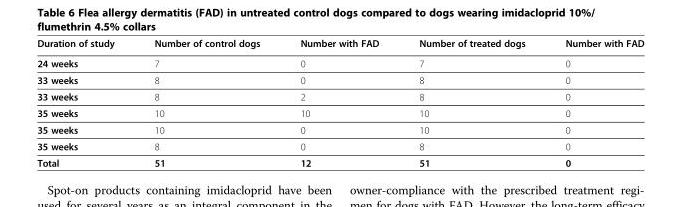table: (36, 37, 643, 168)
table column: (133, 37, 279, 168), (398, 37, 544, 168), (279, 37, 398, 168), (544, 37, 643, 168), (36, 37, 133, 168)
table column header: (36, 37, 643, 52)
table row: (36, 52, 643, 71), (36, 71, 643, 88), (36, 104, 643, 121), (36, 137, 643, 154), (36, 88, 643, 104), (36, 121, 643, 137), (36, 37, 643, 52), (36, 154, 643, 168)
